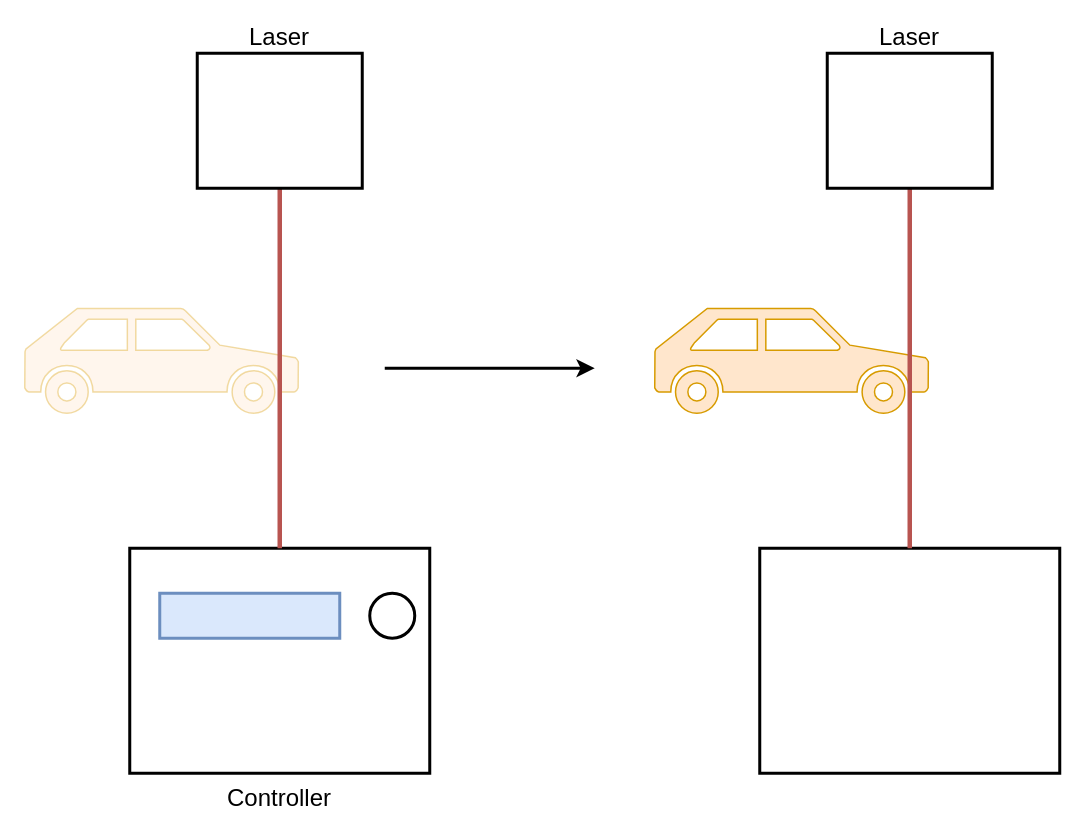
Image size: 1085x834. Some labels were removed from this diagram. The box of each missing label's shape, as (x1, y1, x2, y2) in pixels:
Responder: (758, 546, 1060, 774)
time: 0:31.14: (158, 591, 340, 639)
